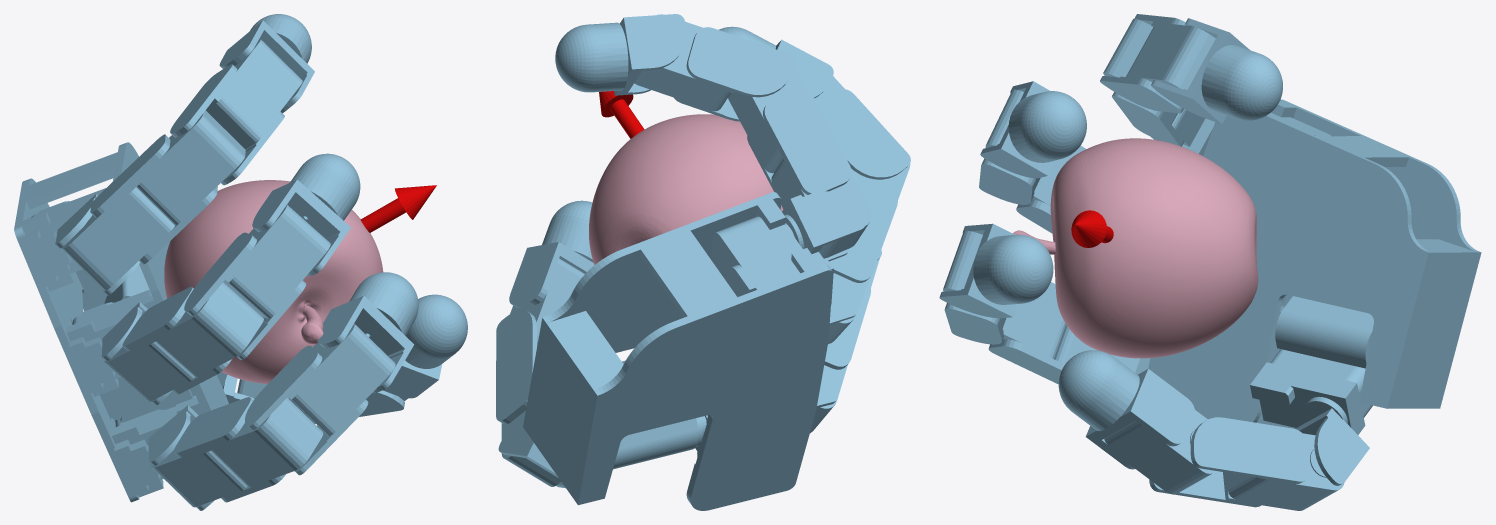
The picture shows the model from 3 angles, left to right: view 1: azimuth 30°, elevation 25°; view 2: azimuth 150°, elevation 25°; view 3: azimuth 270°, elevation 25°; orthographic projection. The views are drawn at different scales.
Parts seen in each view (by area): view 1: world, apple.stl; view 2: world, apple.stl; view 3: world, apple.stl.
Boxes of the visible parts, x1=… form: world: x1=14, y1=14, x2=467, y2=510; apple.stl: x1=164, y1=180, x2=383, y2=383; world: x1=496, y1=14, x2=910, y2=510; apple.stl: x1=589, y1=114, x2=783, y2=264; world: x1=939, y1=14, x2=1481, y2=510; apple.stl: x1=1013, y1=138, x2=1258, y2=358.
Size of the model in its own units: 0.1535 by 0.1761 by 0.1881.
